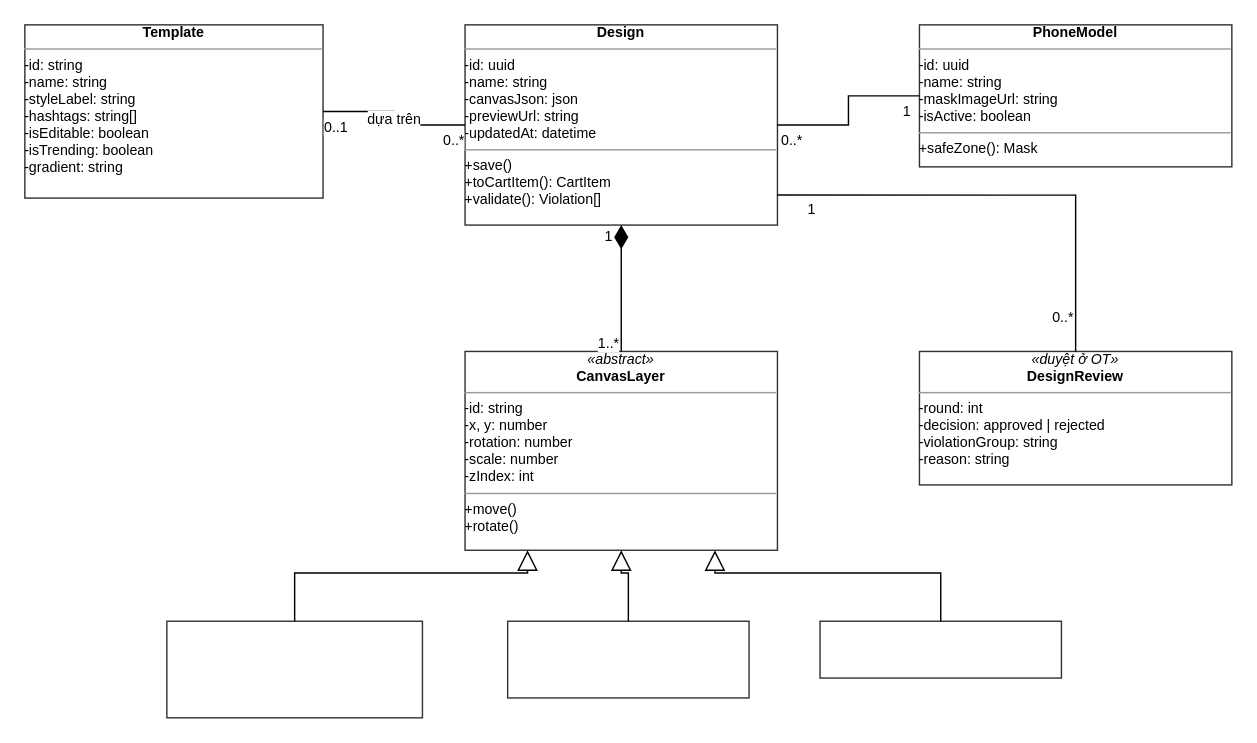
The diagram is 1257 pixels wide and 743 high, and some of its shapes have lost their labels. Here are the shapes that lost their labels. From the top down, the centre of each, then its label:
At pixel 293 669: "TextElement -text: string -font: string -color: string".
At pixel 627 659: "ImageElement -src: string -uploaded: boolean".
At pixel 940 649: "StickerElement -stickerId: string".
